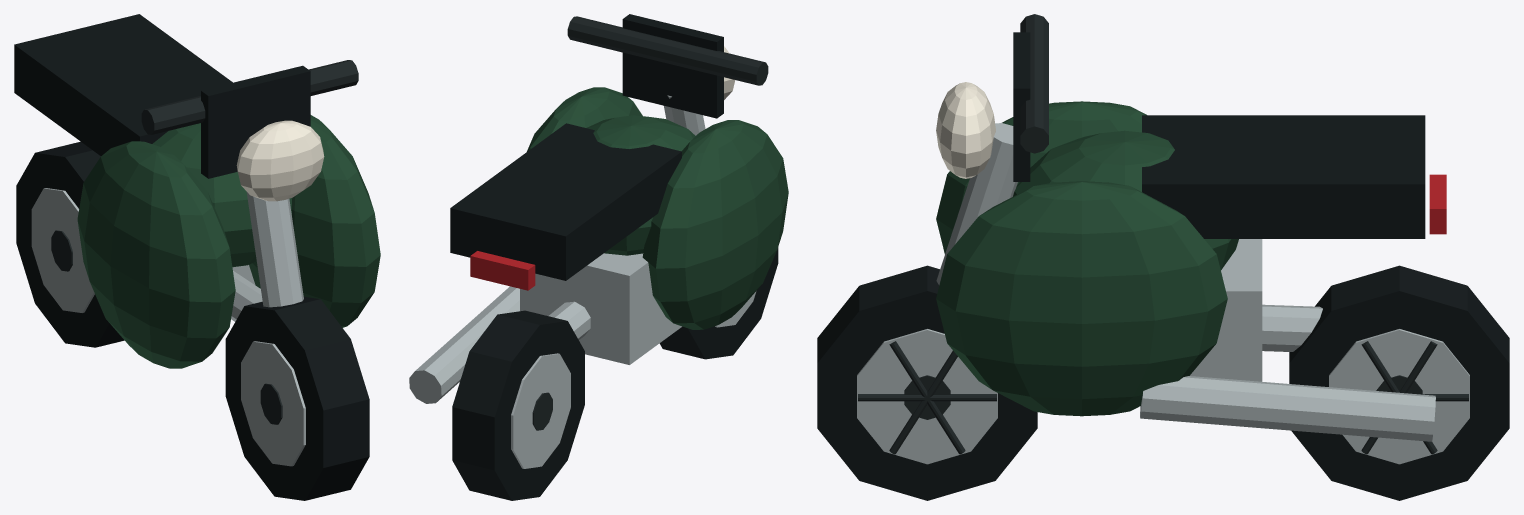
Rendered from good.glb.
The picture shows the model from 3 angles, left to right: view 1: azimuth 30°, elevation 25°; view 2: azimuth 150°, elevation 25°; view 3: azimuth 270°, elevation 25°; orthographic projection. The views are drawn at different scales.
Visible parts, largest first — view 1: Saddle, Fuel tank, Engine, Headlight, Handlebar; view 2: Saddle, Fuel tank, Engine, Handlebar, Rear light; view 3: Saddle, Fuel tank, Engine, Handlebar, Headlight, Rear light.
Part boxes in pixels (x1,y1,x2,y2): Saddle: (14,14,369,500); Fuel tank: (77,115,380,368); Engine: (31,188,305,466); Headlight: (236,120,324,201); Handlebar: (51,60,358,424); Saddle: (450,14,778,500); Fuel tank: (527,87,788,329); Engine: (409,95,756,468); Handlebar: (532,16,768,430); Rear light: (470,251,535,290); Saddle: (817,32,1509,500); Fuel tank: (936,101,1238,416); Engine: (857,123,1469,464); Handlebar: (858,14,1468,454); Headlight: (936,82,995,178); Rear light: (1429,174,1446,234).
Size of the model in its own units: 0.4114 by 0.6286 by 0.922.
